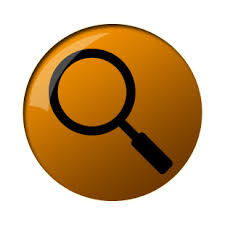searchIcon: (48, 46, 174, 175)
